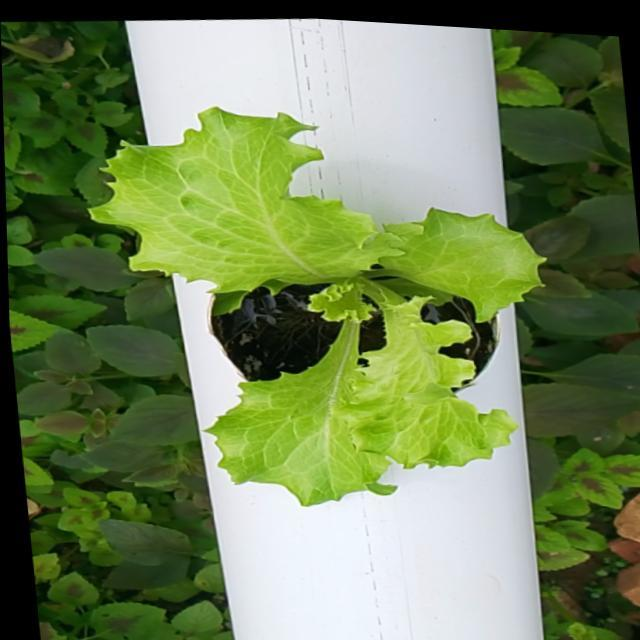Baby: (114, 106, 564, 500)
